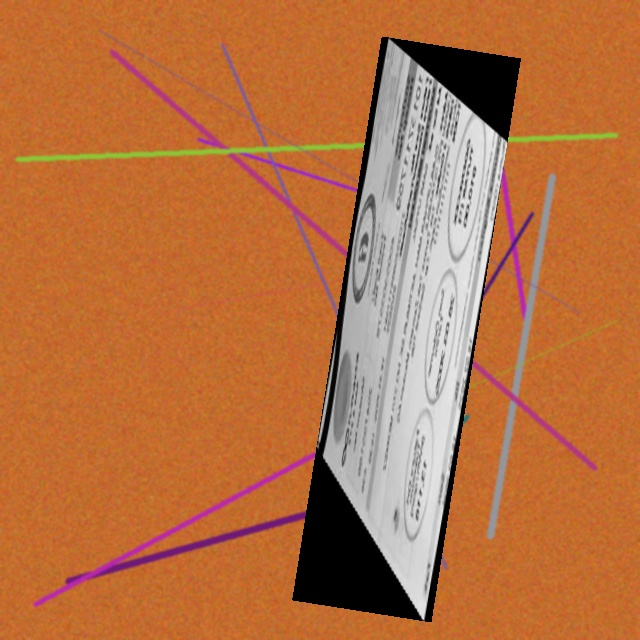electricity-bill: (292, 36, 520, 621)
